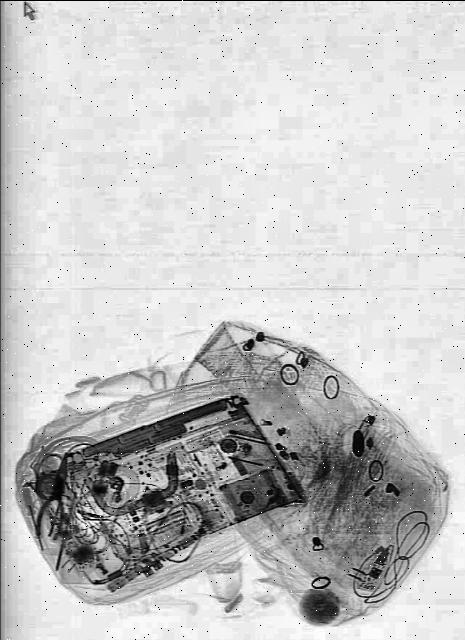Pliers: (31, 448, 77, 542)
